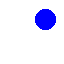circle: (35, 9, 55, 29)
